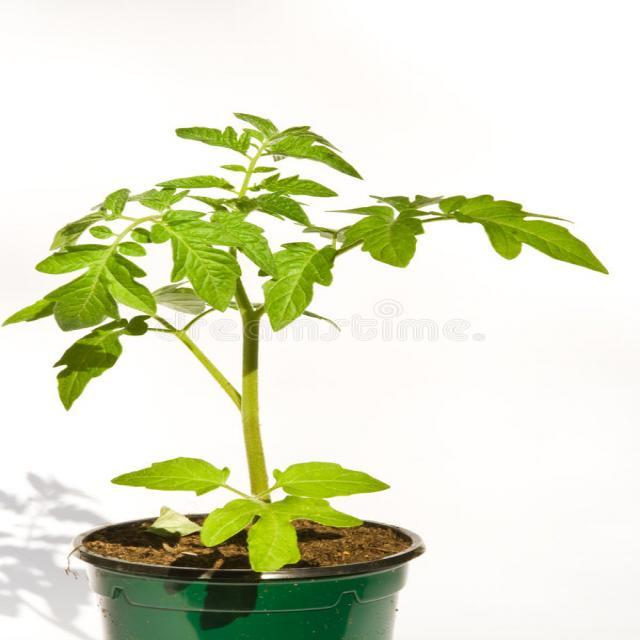tomato: (2, 113, 607, 572)
